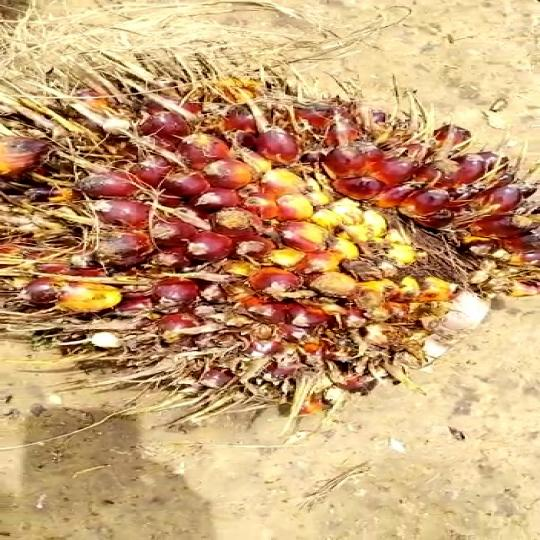masak: (0, 60, 540, 424)
